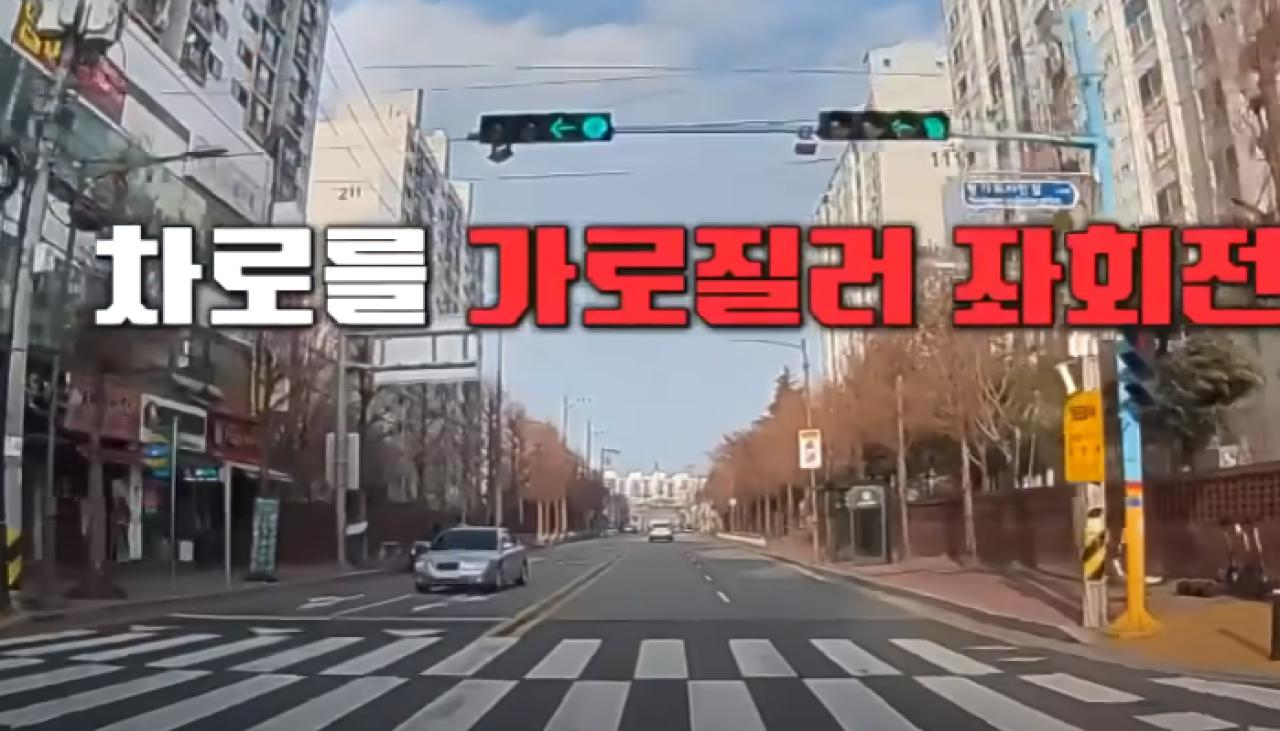Green Light: (919, 109, 949, 141), (580, 113, 609, 142)
Left turn: (885, 108, 917, 140), (545, 111, 578, 142)
